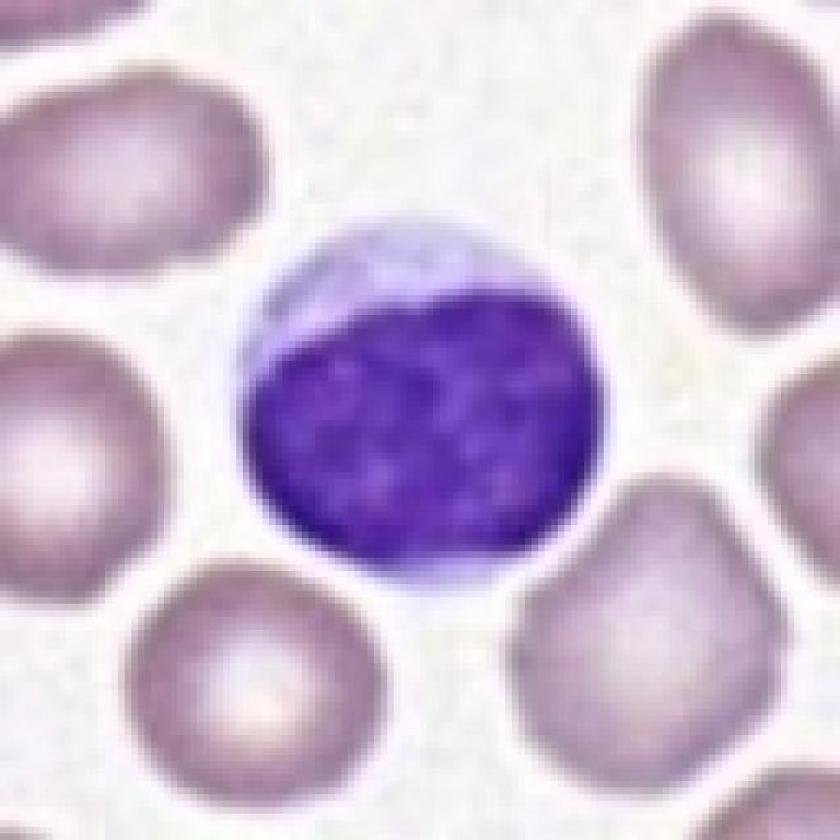lymphocyte: (228, 212, 613, 589)
